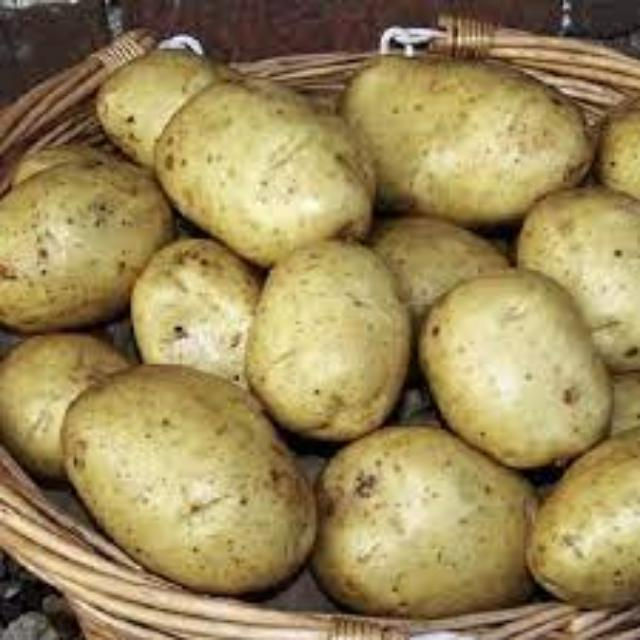Potato: (56, 359, 318, 599), (420, 258, 620, 480), (338, 49, 596, 221), (146, 68, 382, 255), (333, 422, 544, 616), (251, 230, 414, 442), (11, 157, 166, 323), (514, 180, 640, 382), (2, 333, 156, 477), (124, 228, 266, 368), (370, 202, 526, 314), (85, 45, 239, 153)
